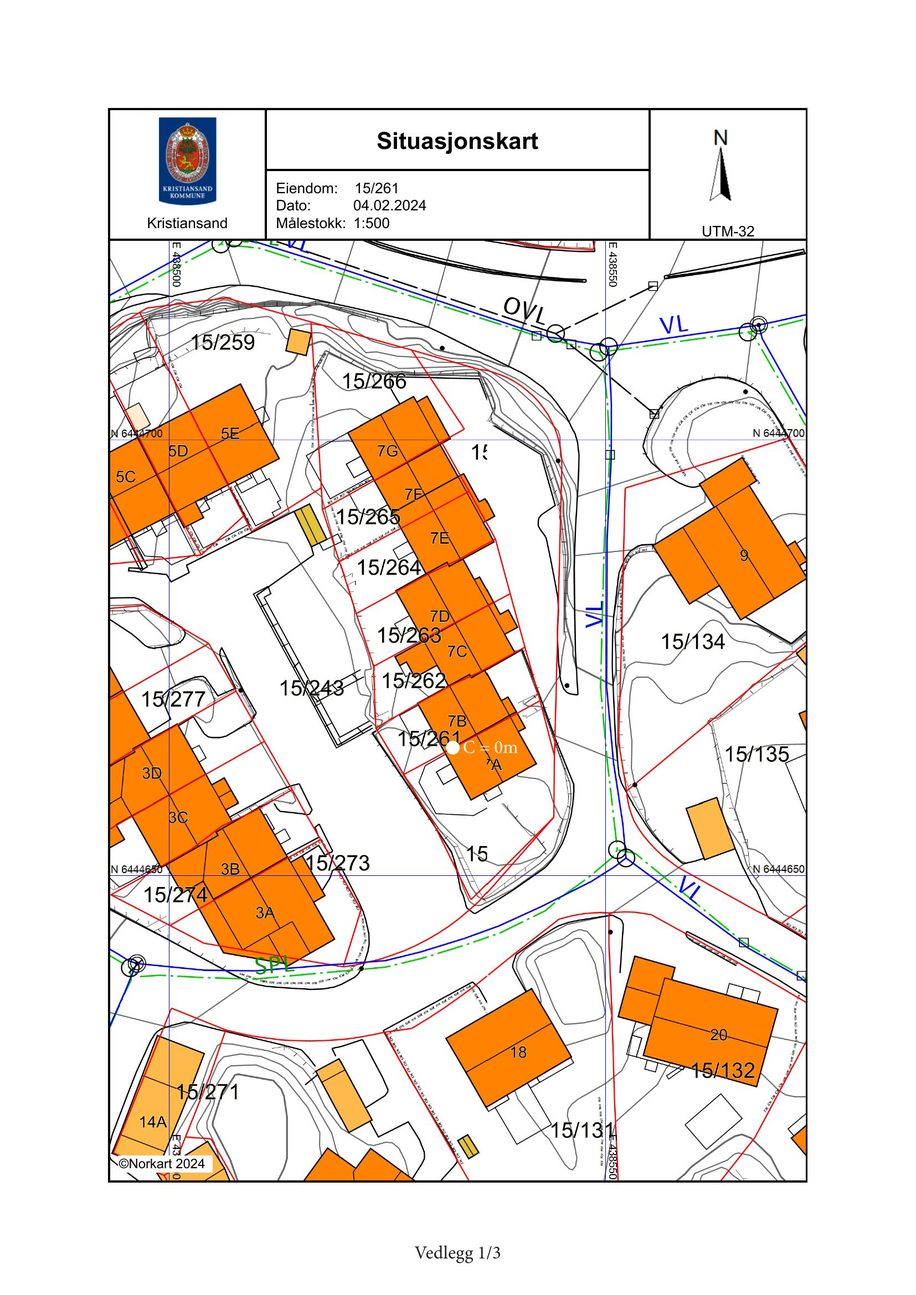situasjonskart: (111, 241, 805, 1183)
